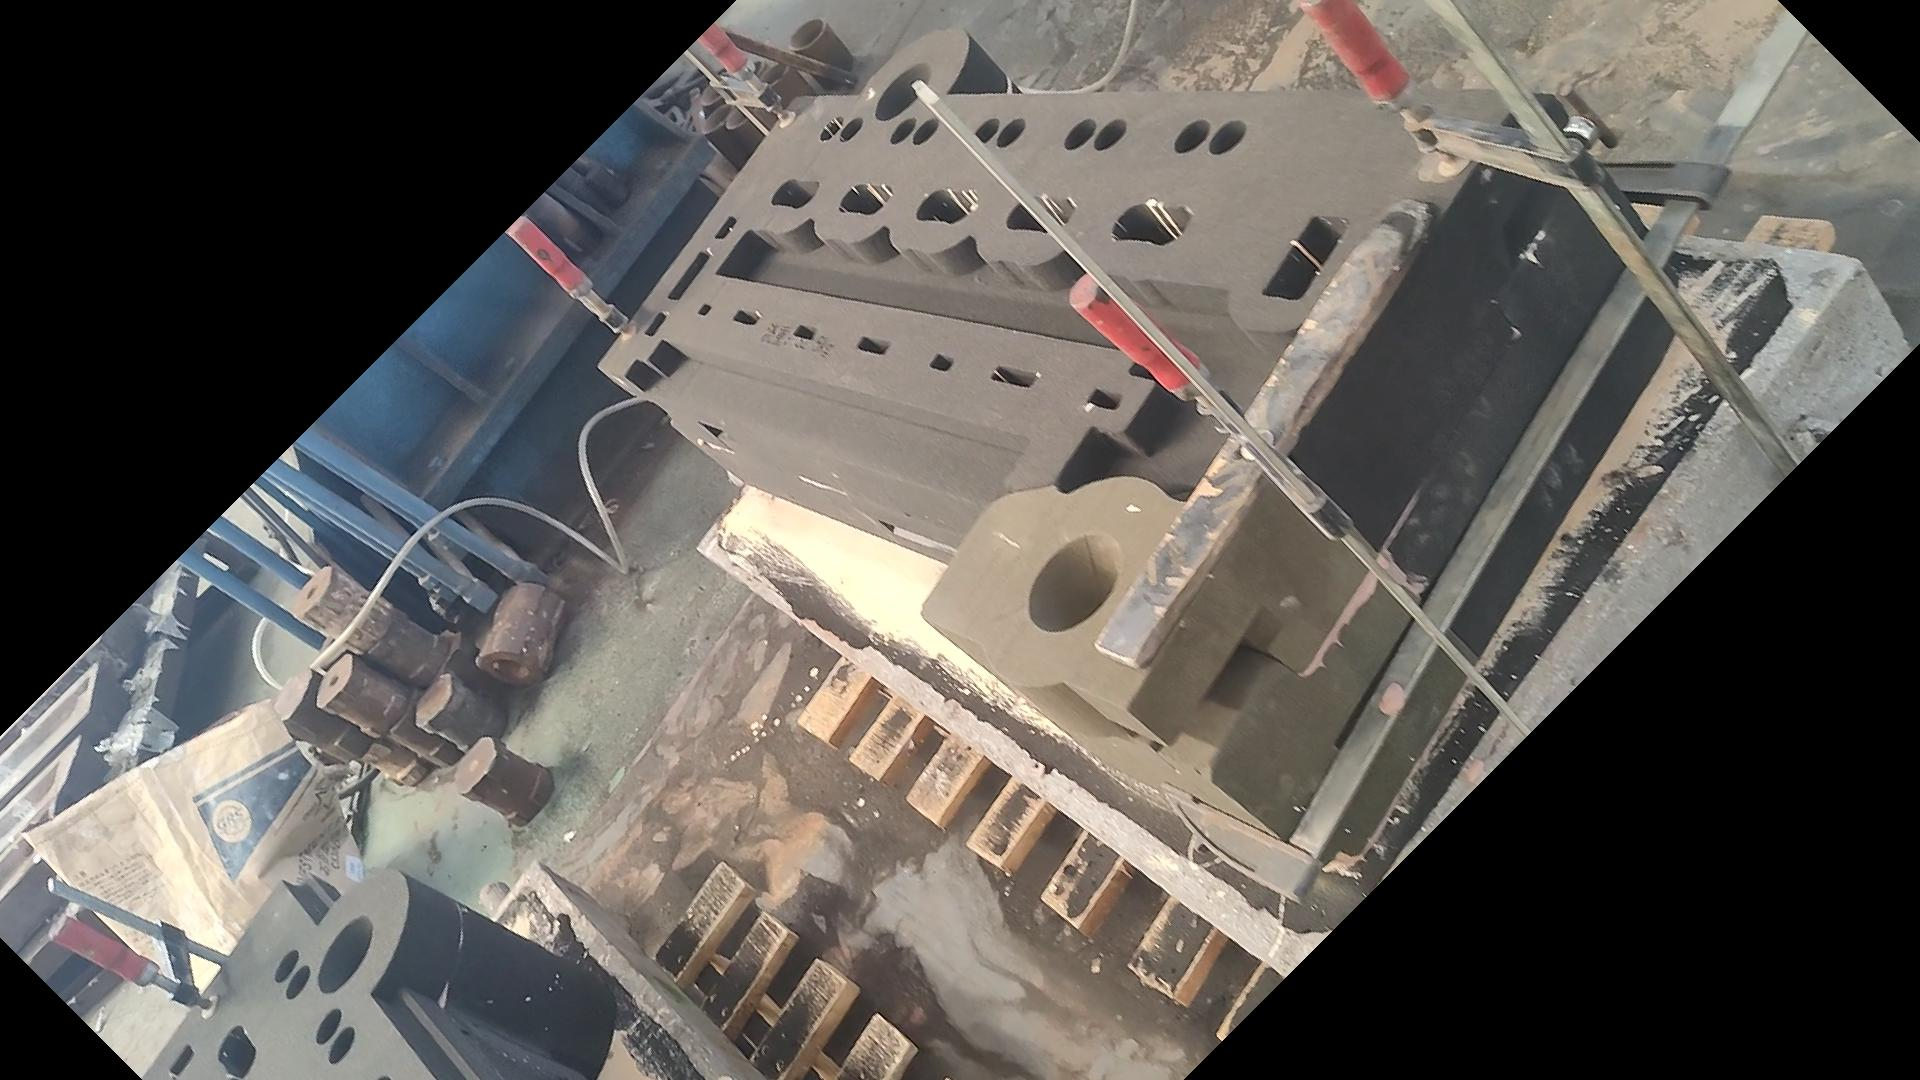pouring hole: (1029, 531, 1120, 630), (316, 915, 373, 994), (876, 62, 931, 121), (789, 18, 824, 49), (702, 103, 731, 133), (702, 79, 725, 105), (760, 63, 787, 84), (727, 104, 752, 127), (738, 59, 761, 79)
